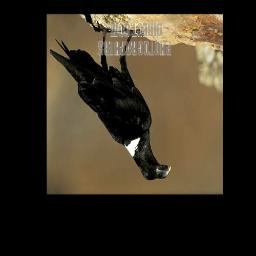Crow: (49, 21, 172, 181)
